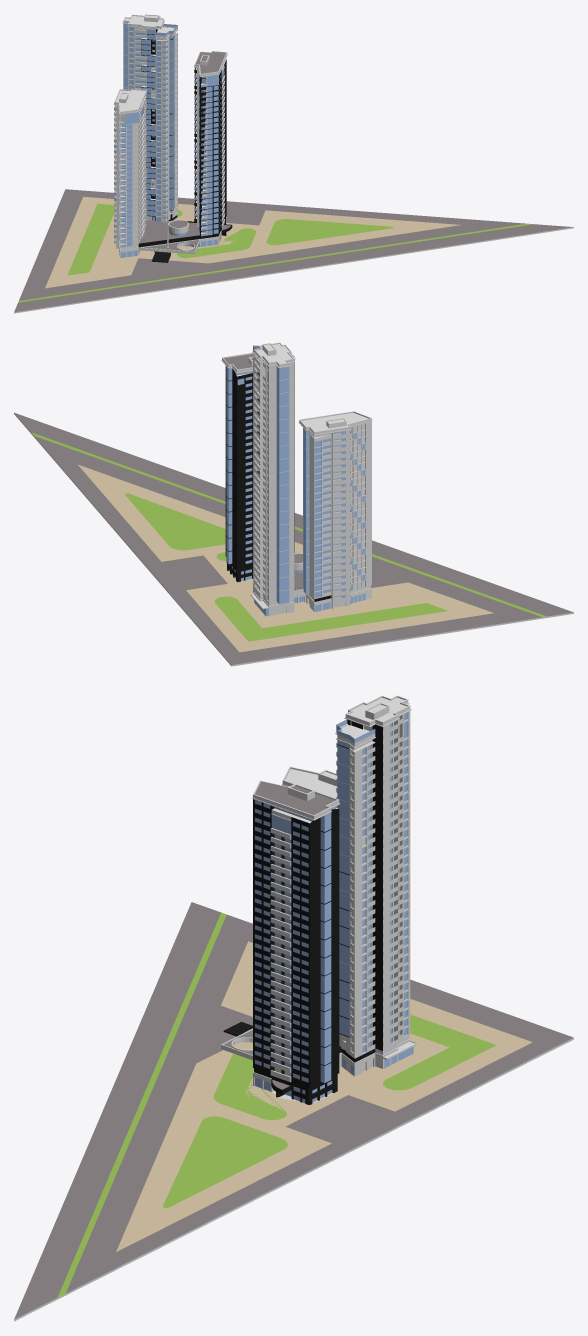
Rendered from Skyscraper10.fbx.
3 renders of one model, top to bottom at view 1: azimuth 30°, elevation 25°; view 2: azimuth 150°, elevation 25°; view 3: azimuth 270°, elevation 25°, orthographic. The views are drawn at different scales.
Visible parts, largest first — view 1: Mesh3320 Model; view 2: Mesh3320 Model; view 3: Mesh3320 Model.
Part boxes in pixels (x1=…): Mesh3320 Model: x1=14, y1=14, x2=573, y2=313; Mesh3320 Model: x1=14, y1=342, x2=573, y2=666; Mesh3320 Model: x1=14, y1=695, x2=573, y2=1321.
Bounding box in the file's own units: 4118 × 1628 × 2333.
